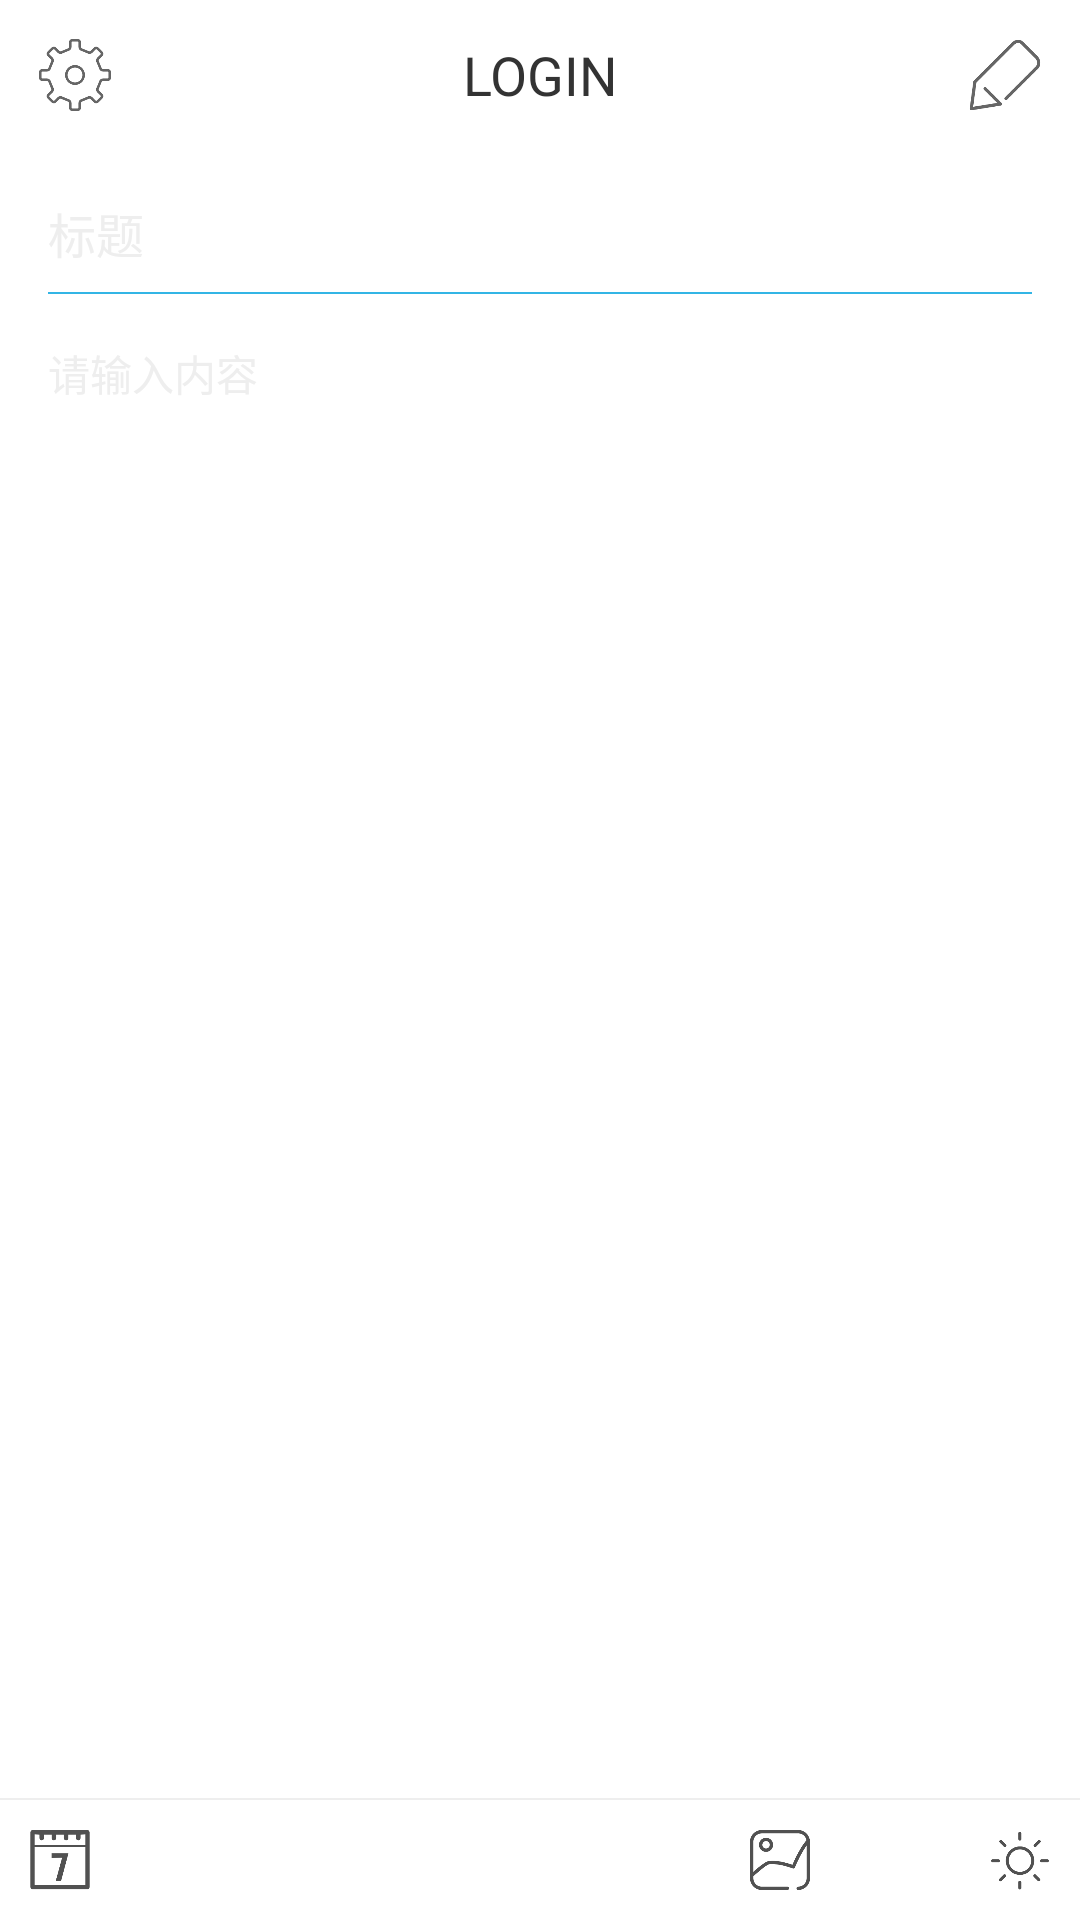

Screen size 1080x1920. Icon name, then its box in pixels as rect(x1, y1, x2, y2):
calendar: rect(30, 1830, 90, 1889)
edit: rect(970, 40, 1040, 110)
photo: rect(750, 1830, 810, 1890)
settings: rect(39, 39, 111, 111)
weather: rect(991, 1832, 1049, 1890)
